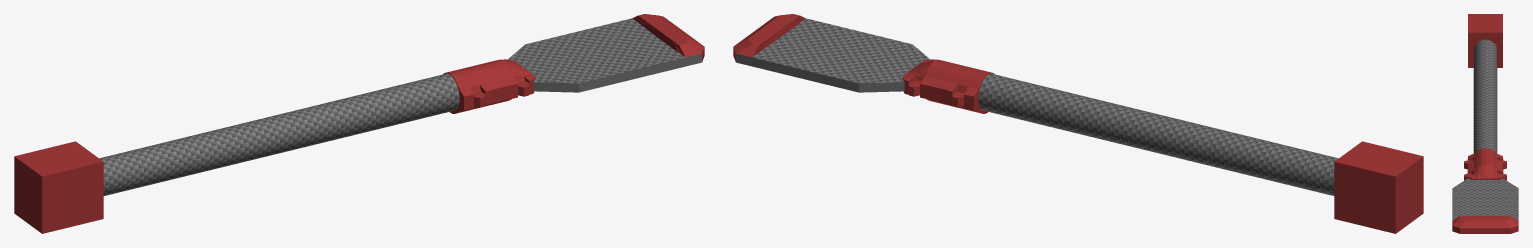
File: tarot_t650_arm_red.dae
3 views of the same model, side by side, from view 1: azimuth 30°, elevation 25°; view 2: azimuth 150°, elevation 25°; view 3: azimuth 270°, elevation 25° (orthographic). The views are drawn at different scales.
Visible parts, largest first — view 1: Cylinder017; view 2: Cylinder017; view 3: Cylinder017.
Part boxes in pixels (<box>): Cylinder017: <box>14,14,704,233</box>; Cylinder017: <box>733,14,1423,233</box>; Cylinder017: <box>1452,14,1518,233</box>.
Bounding box in the file's own units: 300 × 42.35 × 25.
Materials: 2 (2 with a texture image).
